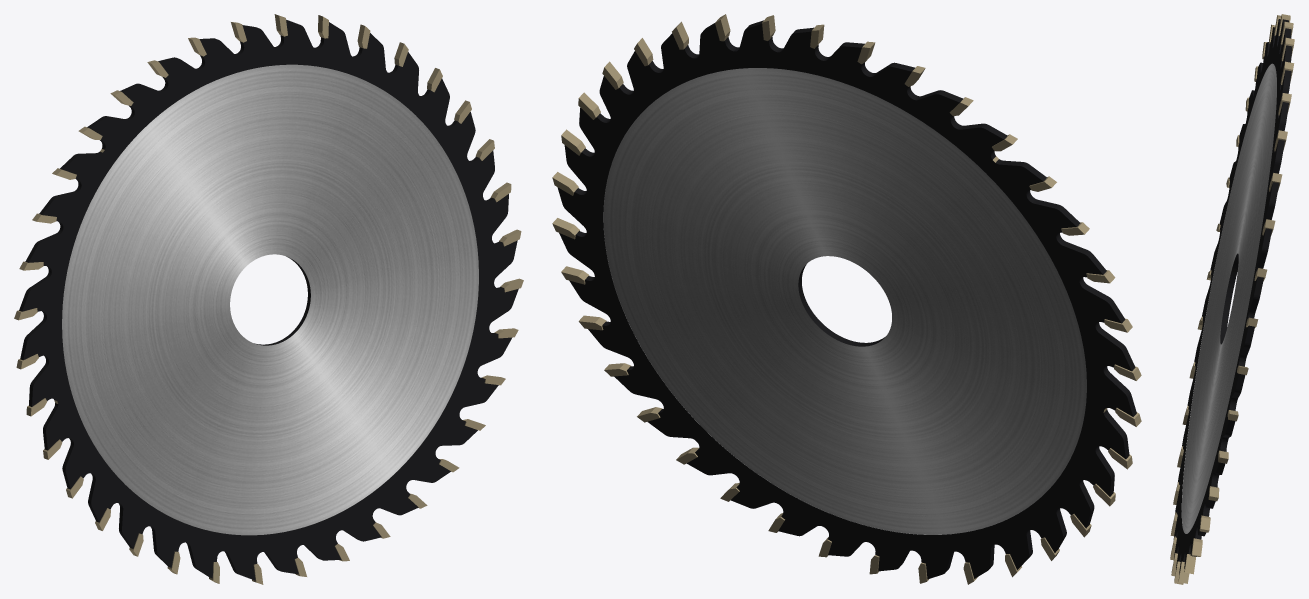
The model's file is circular_saw_blade.glb.
3 renders of one model, left to right at view 1: azimuth 30°, elevation 25°; view 2: azimuth 150°, elevation 25°; view 3: azimuth 270°, elevation 25°, orthographic. The views are drawn at different scales.
Parts seen in each view (by area): view 1: Circular saw blade; view 2: Circular saw blade; view 3: Circular saw blade.
Boxes of the visible parts, x1,y1,x2,y2 form: Circular saw blade: (14,14,523,584); Circular saw blade: (552,14,1141,584); Circular saw blade: (1170,14,1294,584).
Bounding box in the file's own units: 0.1049 × 0.1031 × 0.0226.
3 materials, 1 textured.
